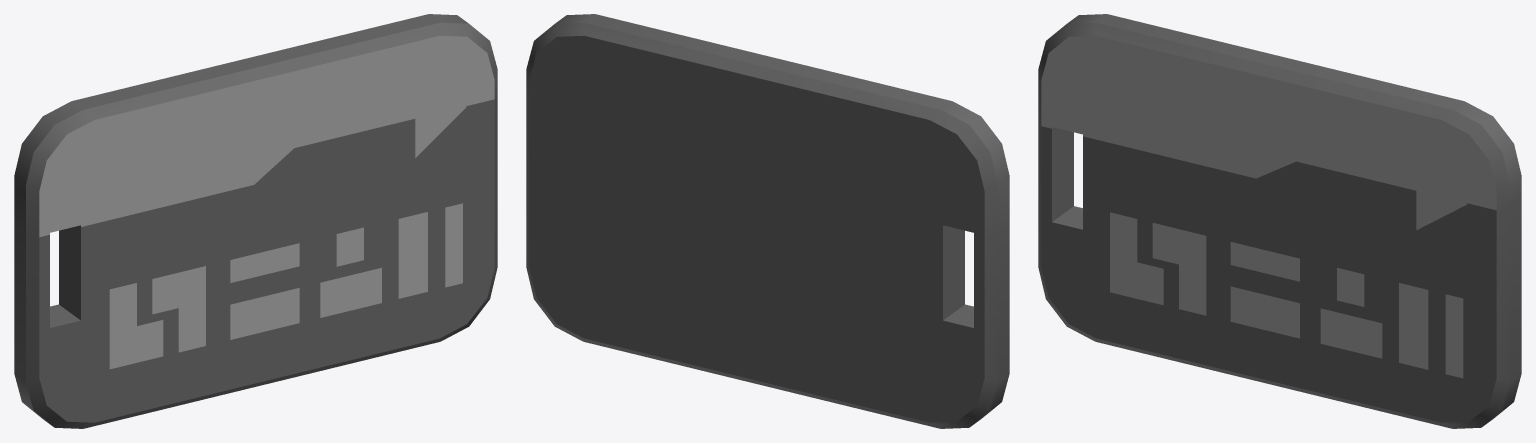
The model's file is Pickup_KeyCard.fbx.
3 views of the same model, side by side, from view 1: azimuth 30°, elevation 25°; view 2: azimuth 150°, elevation 25°; view 3: azimuth 330°, elevation 25° (orthographic).
Visible parts, largest first — view 1: Pickup_KeyCard; view 2: Pickup_KeyCard; view 3: Pickup_KeyCard.
Part boxes in pixels (x1,y1,x2,y2): Pickup_KeyCard: (14, 14, 497, 428); Pickup_KeyCard: (526, 14, 1009, 428); Pickup_KeyCard: (1038, 14, 1521, 428).
Size of the model in its own units: 1.04 by 0.674 by 0.0876.
1 material, 1 textured.
